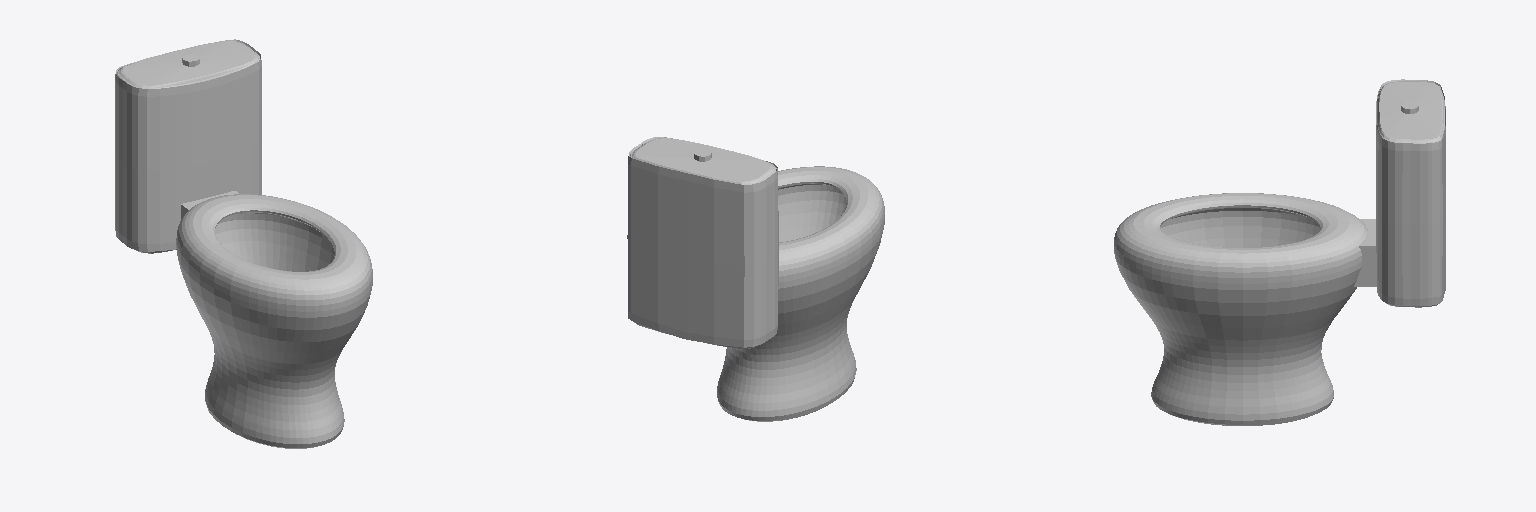
File: toiletUnit.obj
The picture shows the model from 3 angles: view 1: azimuth 30°, elevation 25°; view 2: azimuth 150°, elevation 25°; view 3: azimuth 270°, elevation 25°; orthographic projection.
Visible parts, largest first — view 1: Bas, Reservoir; view 2: Reservoir, Bas; view 3: Bas, Reservoir, Tube.
Boxes of the visible parts, <box> form: Bas: <box>176,194,372,448</box>; Reservoir: <box>115,39,261,253</box>; Reservoir: <box>627,137,778,349</box>; Bas: <box>717,166,884,421</box>; Bas: <box>1114,193,1367,425</box>; Reservoir: <box>1376,79,1445,307</box>; Tube: <box>1354,219,1376,286</box>.
Bounding box in the file's own units: 0.7637 × 1.47 × 1.47.